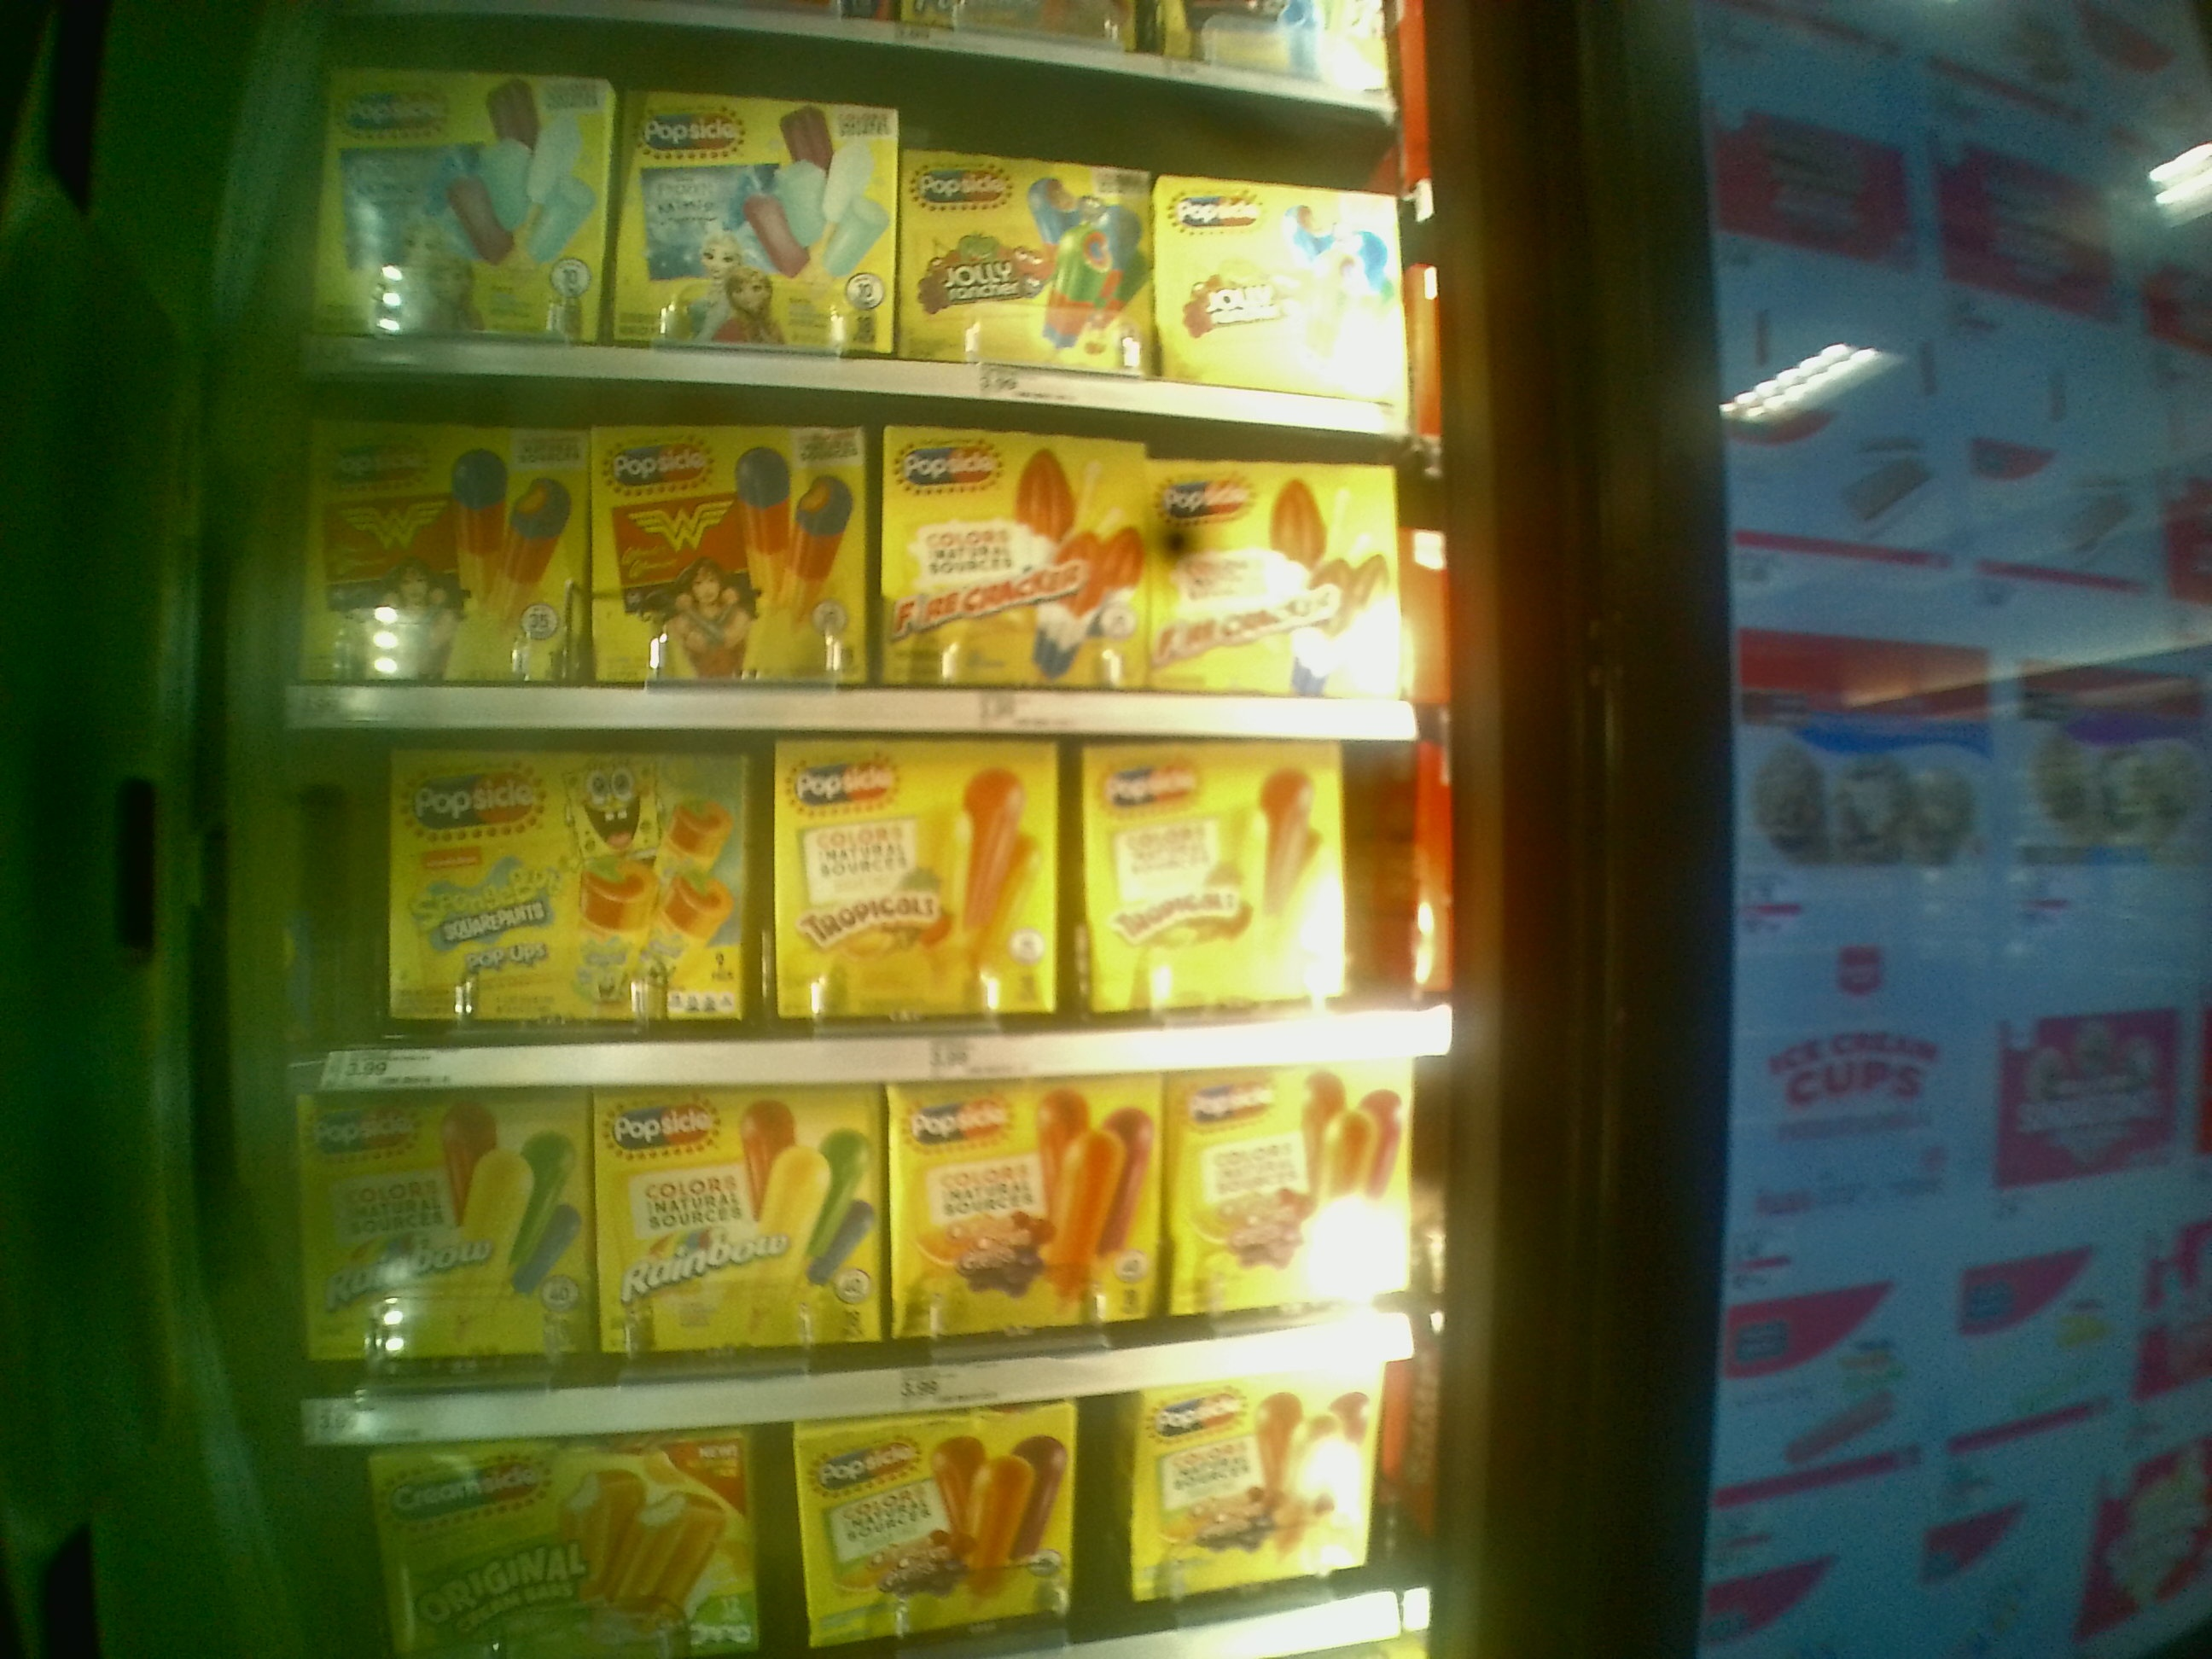frozen-food-shelf: (273, 737, 1451, 1087)
